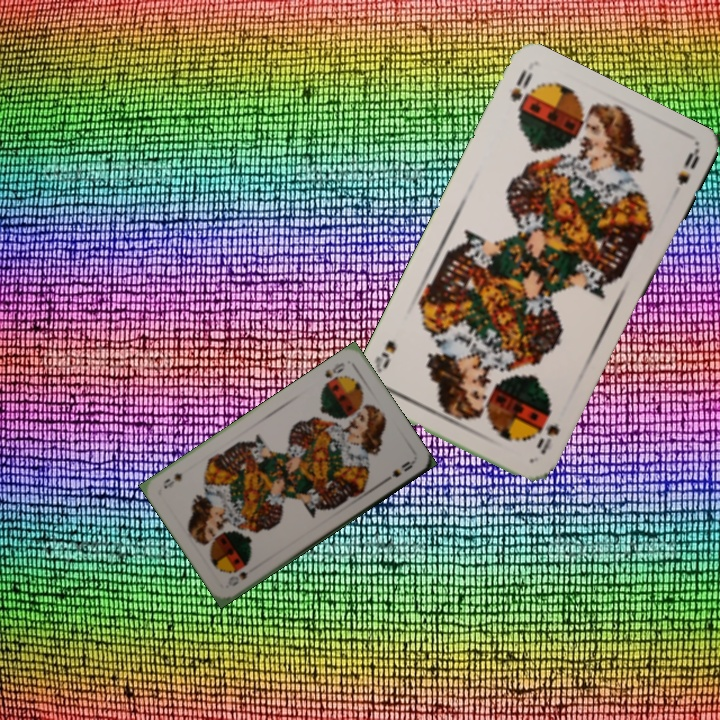SO: (506, 65, 536, 105), (532, 420, 562, 457), (320, 358, 348, 388), (224, 567, 250, 589)
